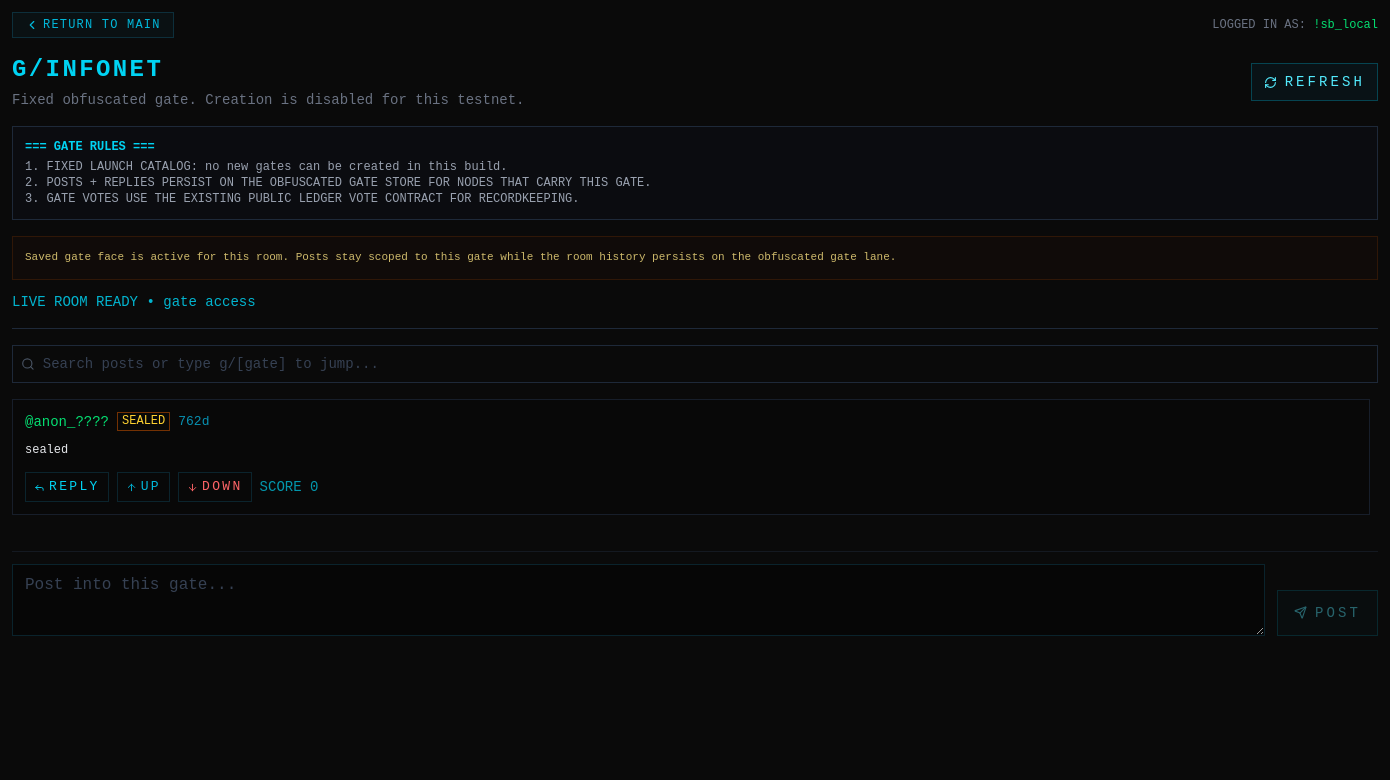
GateView compat-decrypt UX › shows a friendly room message instead of a raw transport-tier gate post failure
Expected: the text "sealed" is shown, [25,443,68,457]
Type "hello" into the text box with placeholder "Post into this gate..." at (639, 600), box [12,564,1265,636]
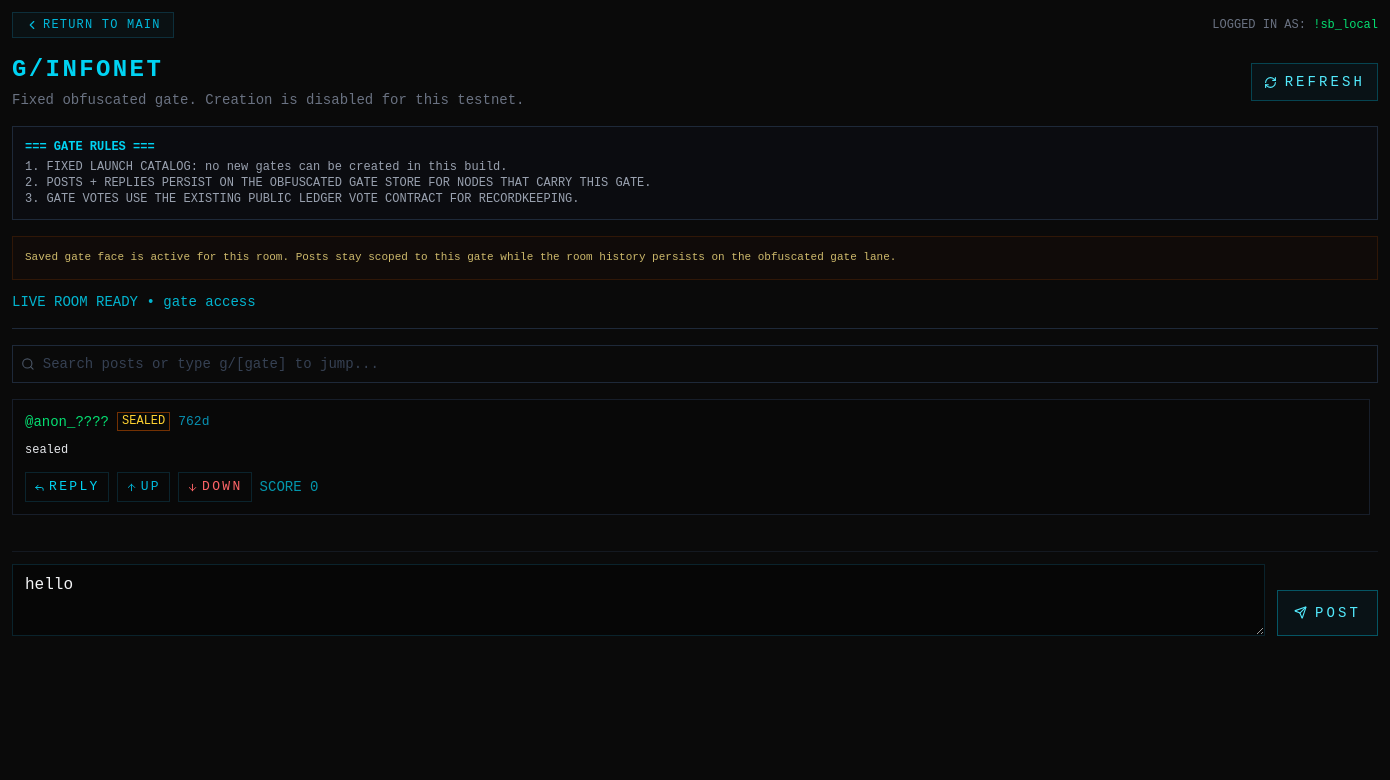
Click the button "Post" at (1328, 613), box [1277,590,1378,636]
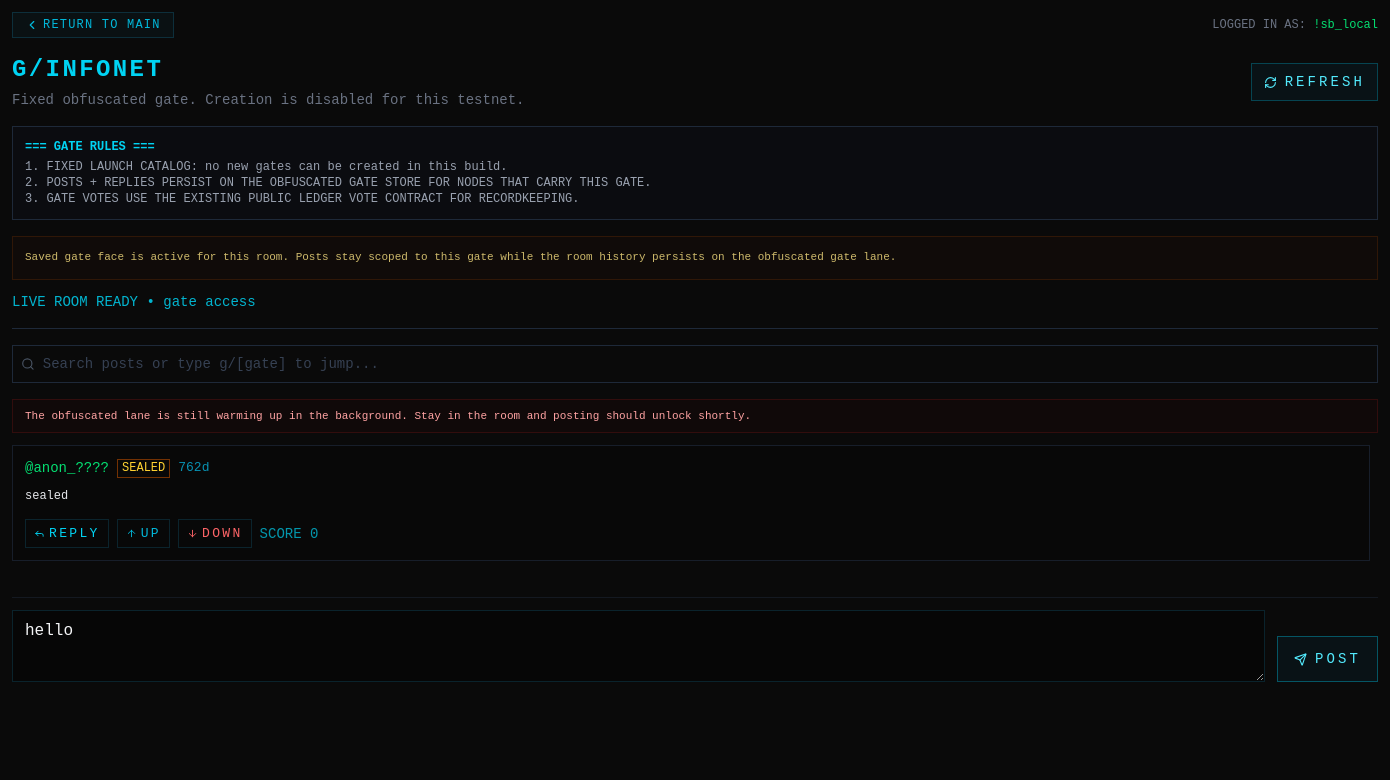
Result: the text "The obfuscated lane is still warming up in the background. Stay in the room and posting should unlock shortly." is shown at [25,410,751,422]
